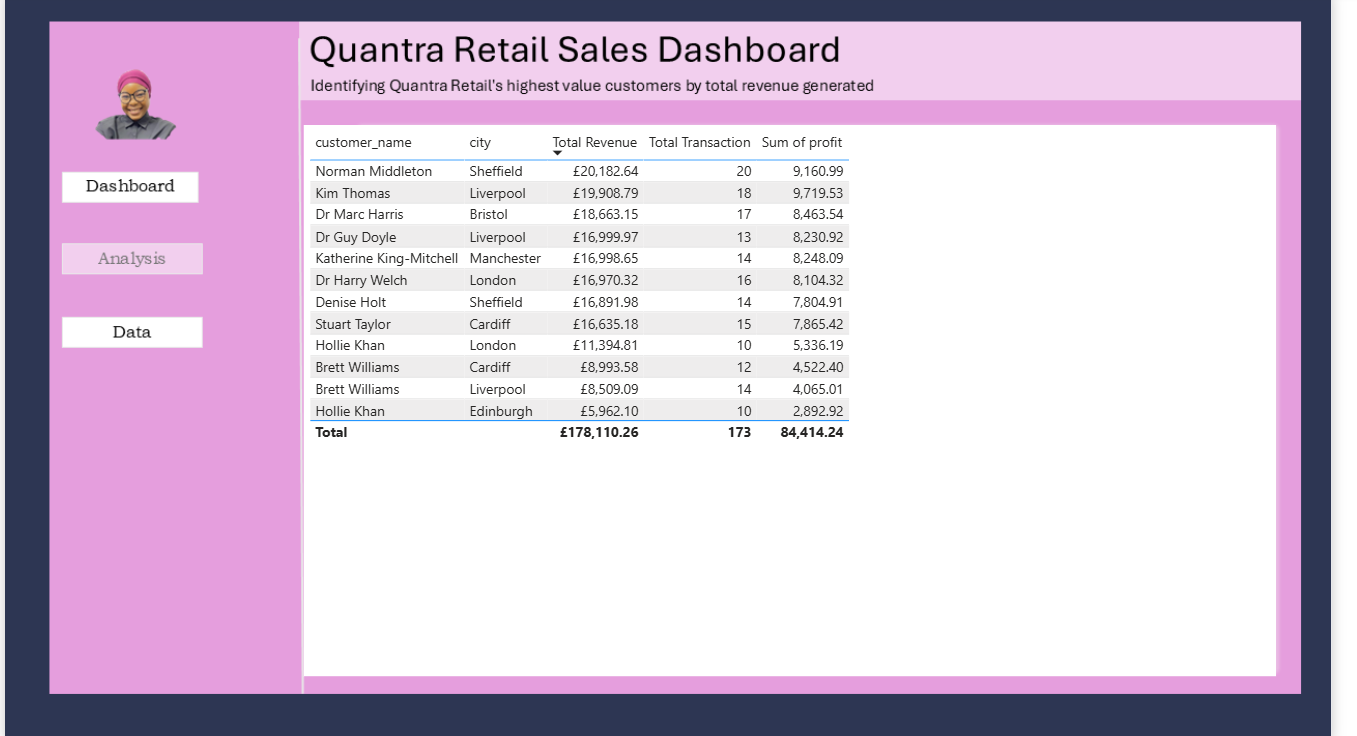

Layout of this report page (visuals, bound fields, positions):
{"tool":"powerbi","page":{"name":"Top customers","canvas":[1280,720],"ordinal":3},"visuals":[{"type":"tableEx","fields":{"Values":["customers_cleaned.customer_name","customers_cleaned.city","customers_cleaned.Total Revenue","customers_cleaned.Total Transaction","Sum(transactions_cleaned.profit)"]},"box":[288.3,125.5,938.6,532],"z":0}]}

Visuals, with their boxes on the page's 1280x720 design canvas (x1, y1, x2, y2). These are canvas units, not pixel positions in the 1357x736 screenshot, which may show the page scaled, cropped or inside an application window:
tableEx - customers_cleaned.customer_name x customers_cleaned.city: 288/126/1227/658
